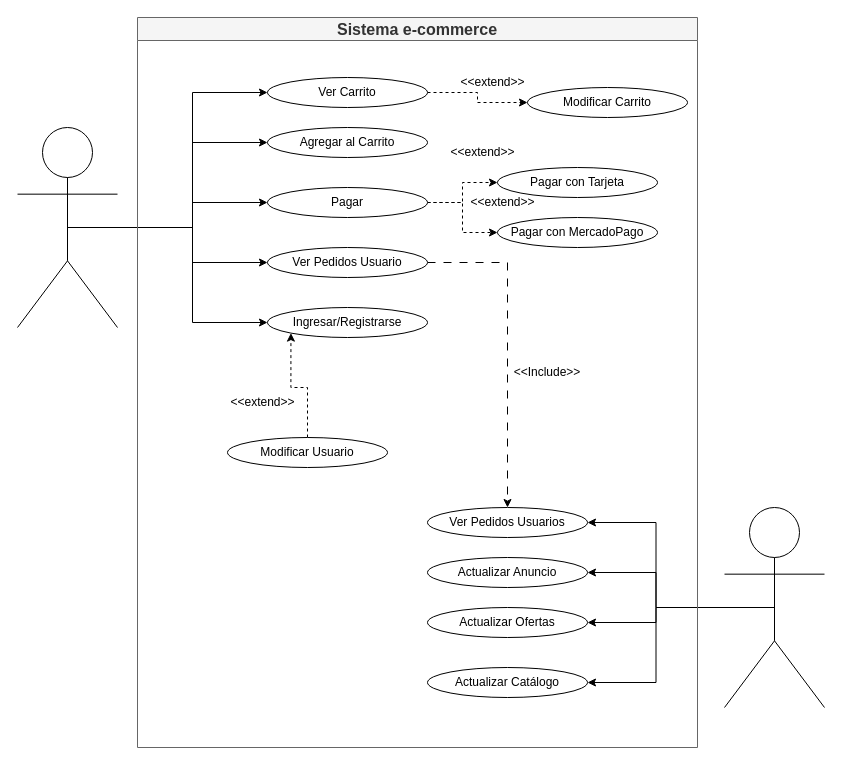
The diagram is 842 pixels wide and 765 high, and some of its shapes have lost their labels. Here are the shapes that lost their labels. From the top down, the box of each, then its label:
(16, 126, 118, 328): Cliente
(724, 506, 824, 708): Comerciante
